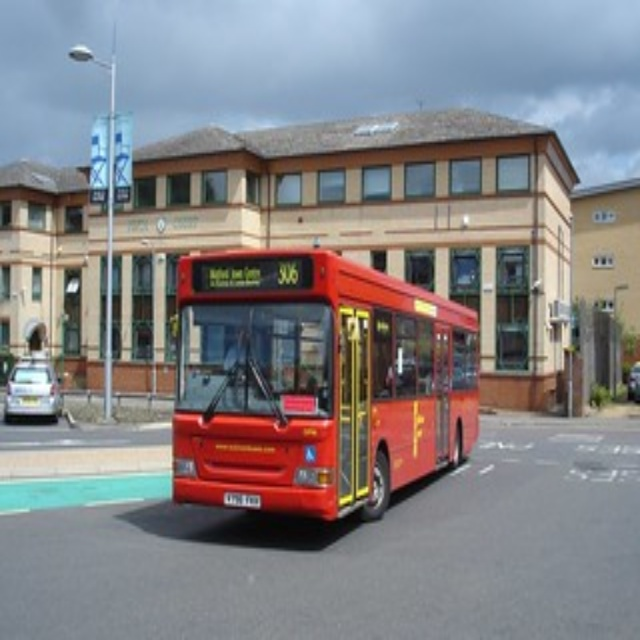Bus: (172, 245, 482, 529)
Car: (4, 362, 66, 423)
